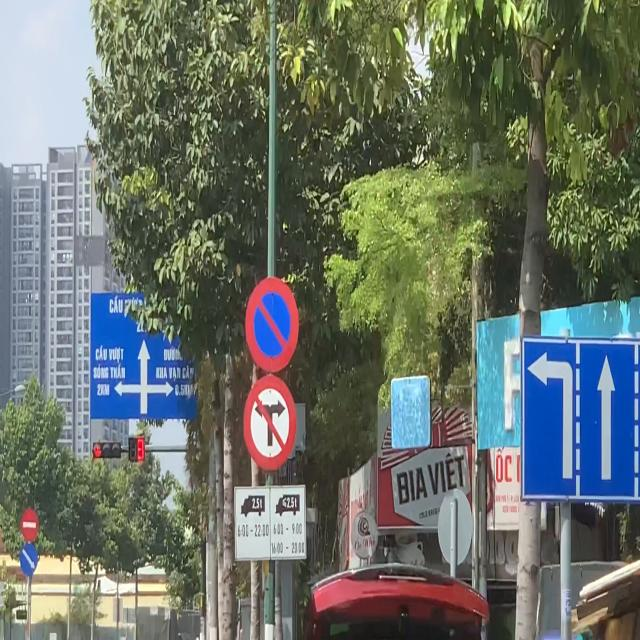Cam con lai: (240, 376, 297, 478)
Cam do: (243, 267, 302, 376)
Cam nguoc chieu: (21, 508, 39, 543)
Hieu lenh: (19, 541, 38, 579)
